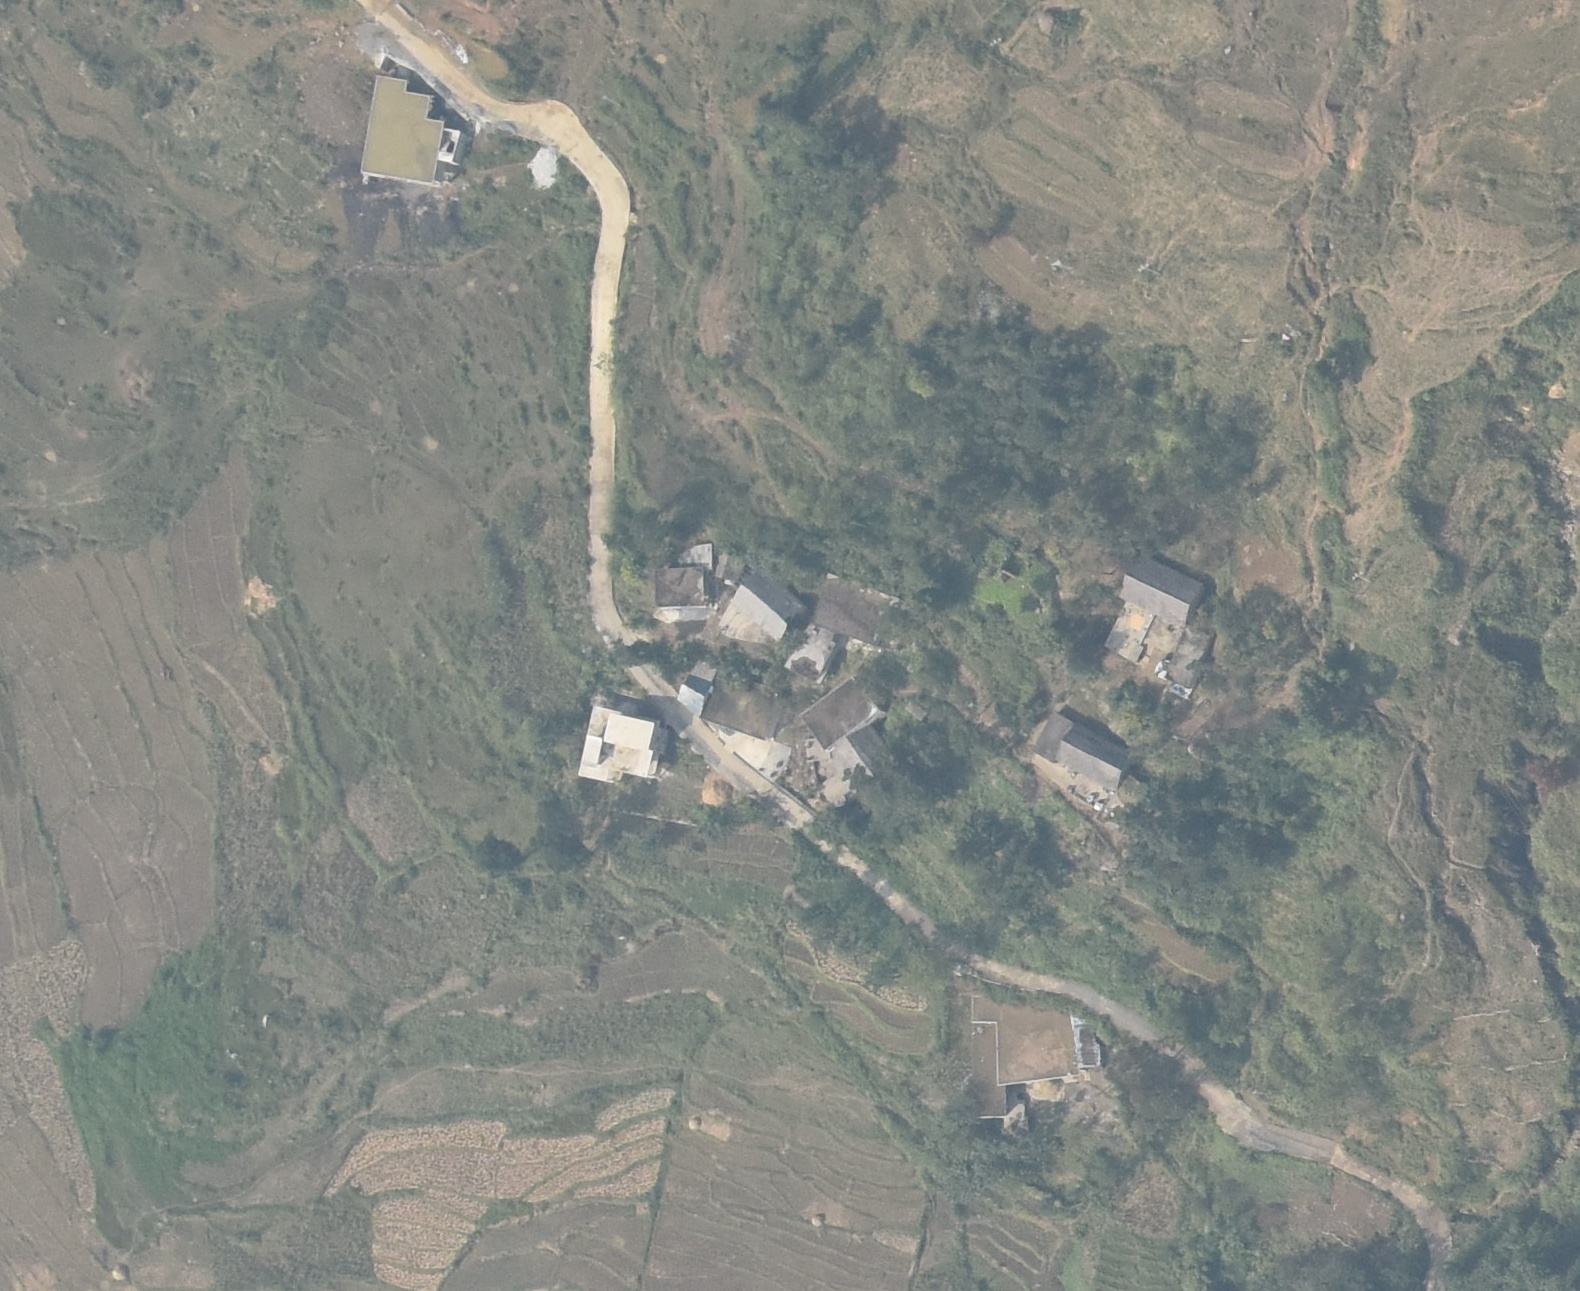building: (955, 994, 1104, 1122), (354, 56, 468, 198), (573, 695, 667, 798), (1034, 705, 1134, 791), (1117, 558, 1216, 623), (795, 674, 884, 747), (735, 569, 799, 642), (647, 562, 713, 617), (785, 619, 839, 684), (672, 668, 720, 716)
